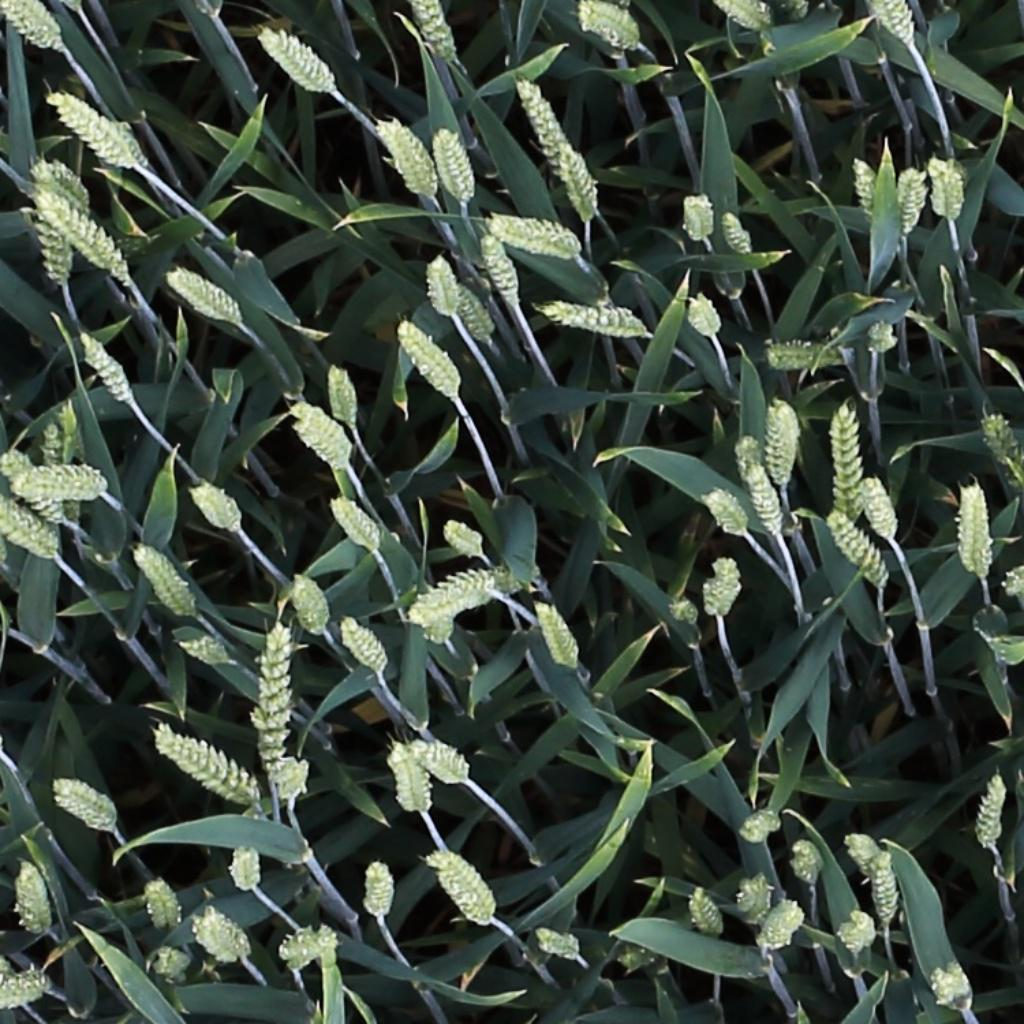0-0: (149, 720, 262, 805), (35, 189, 136, 282), (399, 558, 529, 623), (724, 426, 789, 540), (43, 88, 133, 167), (251, 620, 292, 787), (514, 72, 573, 177), (395, 315, 465, 400), (131, 540, 200, 622), (827, 509, 895, 591), (376, 111, 439, 199), (38, 406, 86, 520), (428, 849, 498, 927), (73, 323, 137, 408), (259, 27, 334, 94), (4, 450, 66, 528), (951, 479, 1001, 575), (539, 301, 651, 341), (166, 267, 243, 323), (827, 399, 862, 522), (532, 595, 584, 675), (432, 120, 479, 206), (488, 215, 582, 258), (27, 193, 70, 286), (0, 487, 57, 557), (479, 226, 527, 309), (289, 402, 353, 464), (557, 139, 602, 223), (24, 465, 116, 505), (770, 334, 859, 375), (337, 611, 391, 678), (398, 586, 461, 643), (329, 492, 385, 555), (35, 164, 94, 223), (449, 277, 499, 346), (54, 778, 117, 832), (980, 406, 1022, 487), (413, 0, 462, 69), (862, 471, 905, 547), (389, 740, 430, 819), (15, 857, 53, 939), (288, 569, 331, 640), (0, 1, 62, 50), (189, 480, 243, 535), (196, 909, 249, 965), (705, 552, 744, 623), (581, 2, 643, 46), (976, 771, 1008, 856), (757, 898, 808, 951), (703, 486, 753, 540), (406, 744, 471, 785), (770, 397, 798, 490), (719, 202, 760, 264), (326, 359, 361, 431), (688, 883, 729, 944), (869, 851, 900, 930), (427, 248, 460, 322), (929, 150, 962, 223), (875, 0, 921, 50), (842, 825, 883, 881), (143, 872, 178, 937), (0, 971, 56, 1011), (901, 158, 927, 237), (688, 286, 724, 341), (275, 755, 312, 808), (791, 836, 826, 892), (365, 856, 393, 925), (741, 871, 772, 932), (279, 931, 338, 963), (684, 185, 715, 245), (442, 520, 487, 558), (929, 961, 961, 1014), (944, 957, 974, 1013), (233, 841, 259, 901), (846, 907, 879, 954), (154, 943, 189, 985), (724, 0, 772, 30), (852, 158, 879, 210), (535, 929, 582, 958), (869, 314, 899, 357), (180, 641, 230, 666), (742, 813, 785, 839)
